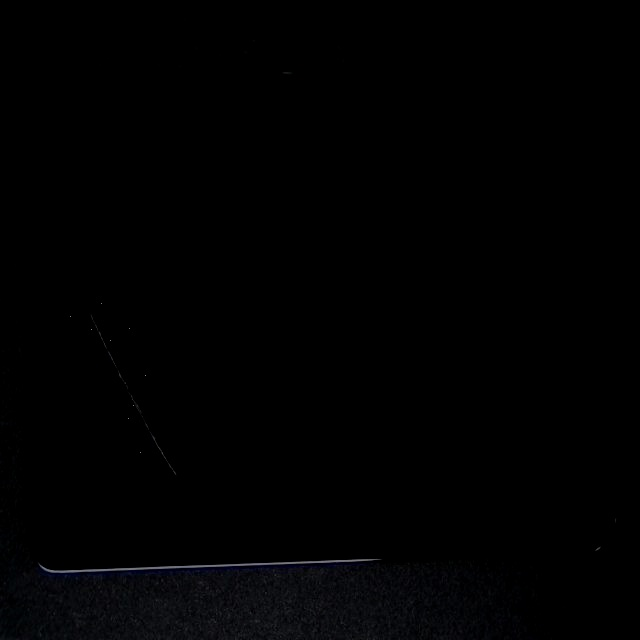scratch: (0, 122, 163, 610)
